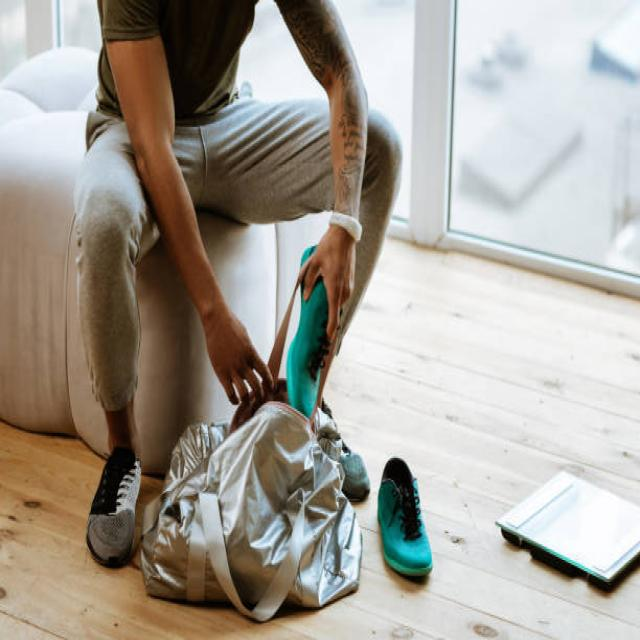article: (288, 279, 329, 416)
bags: (141, 380, 361, 620)
hands: (202, 304, 272, 398), (303, 223, 353, 339)
person: (75, 0, 402, 458)
